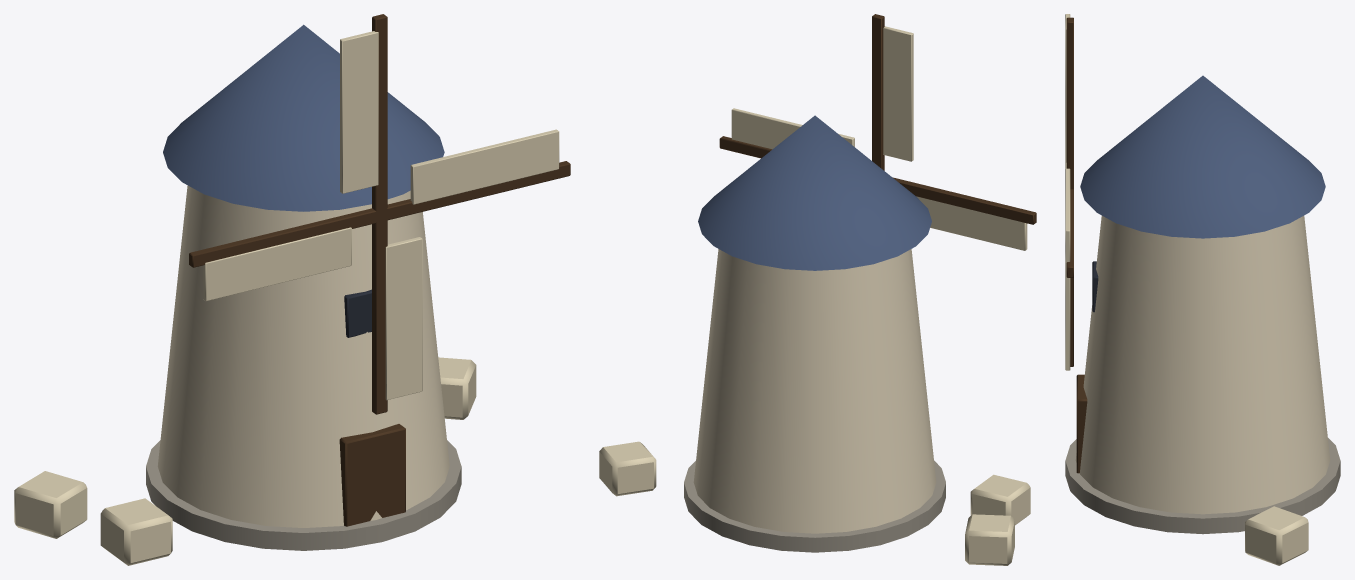
The model's file is mill.glb.
The picture shows the model from 3 angles, left to right: view 1: azimuth 30°, elevation 25°; view 2: azimuth 150°, elevation 25°; view 3: azimuth 270°, elevation 25°; orthographic projection. The views are drawn at different scales.
Visible parts, largest first — view 1: building, sails; view 2: building, sails; view 3: building, sails.
Boxes of the visible parts, bbox=[...] form: building: bbox=[14, 24, 476, 565]; sails: bbox=[189, 14, 570, 414]; building: bbox=[599, 115, 1030, 565]; sails: bbox=[719, 14, 1036, 250]; building: bbox=[1065, 75, 1340, 565]; sails: bbox=[1065, 14, 1073, 370].
Size of the model in its own units: 3.91 by 4.1 by 2.24.
